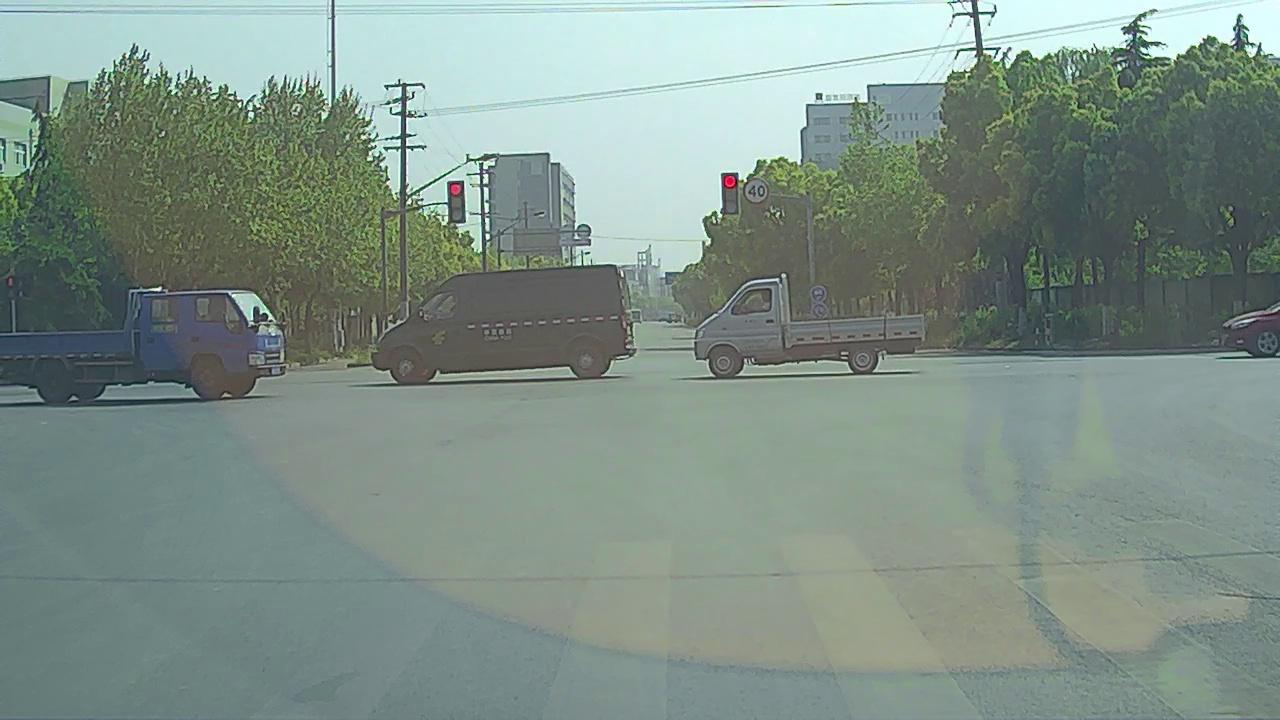traffic_light: (721, 172, 739, 214), (449, 181, 465, 222)
